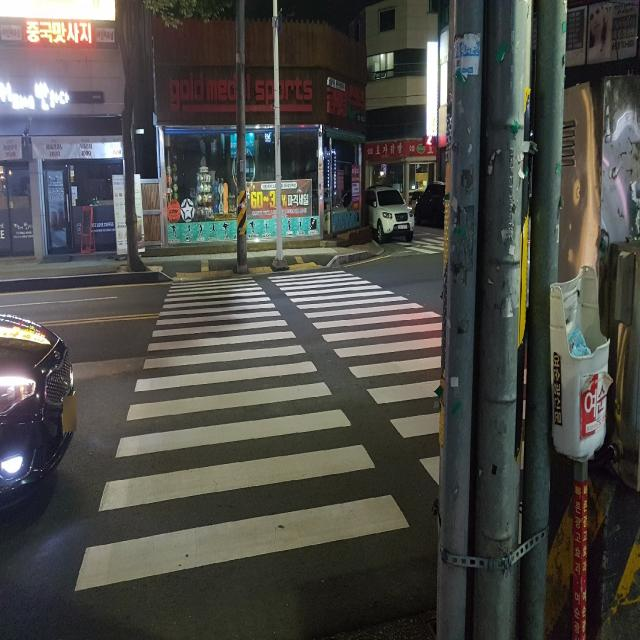횡단보도: (72, 264, 530, 593), (406, 240, 441, 256)
